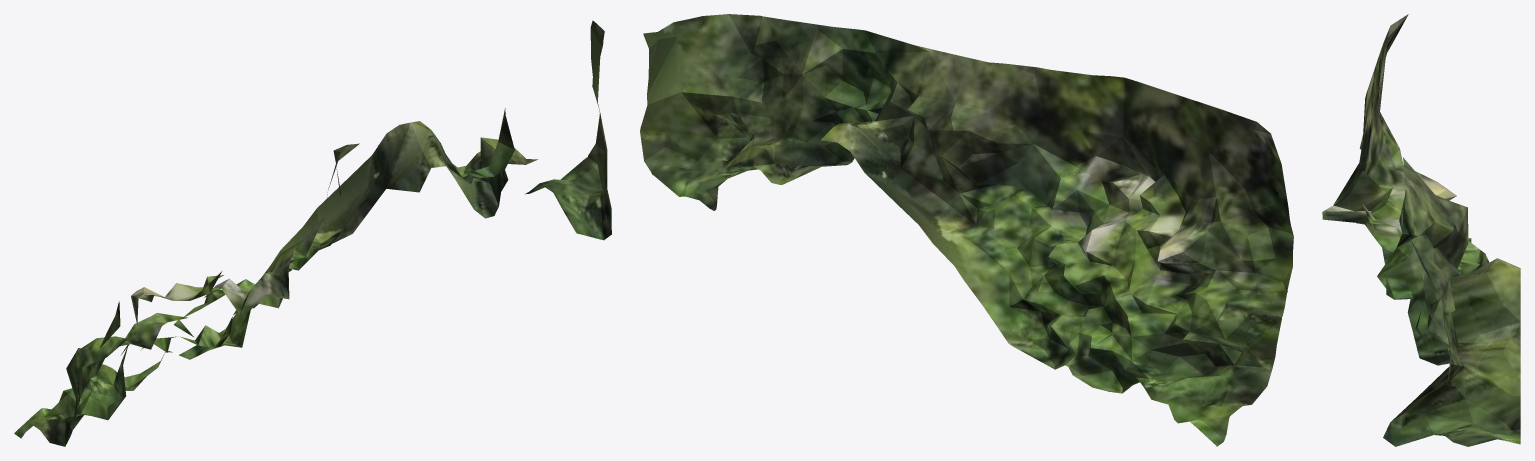
The picture shows the model from 3 angles, left to right: view 1: azimuth 30°, elevation 25°; view 2: azimuth 150°, elevation 25°; view 3: azimuth 270°, elevation 25°; orthographic projection. The views are drawn at different scales.
Bounding box in the file's own units: 25.67 × 11.62 × 7.4.
2 materials, 2 textured.
